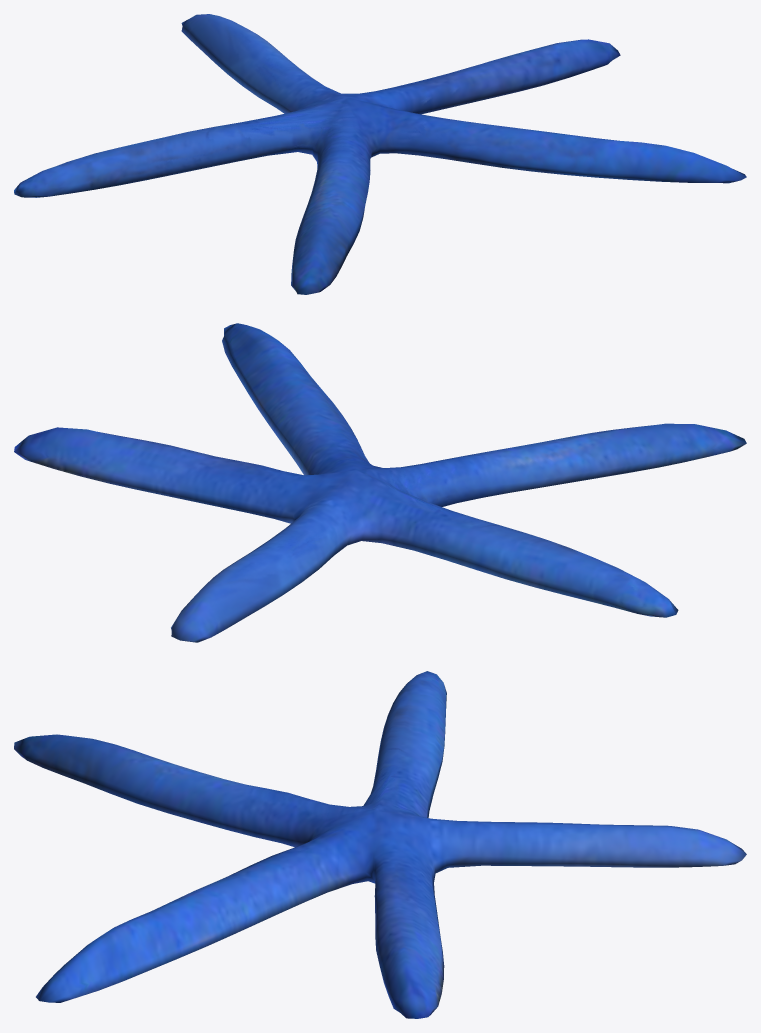
The model's file is BluieStarfish_seafish.glb.
The picture shows the model from 3 angles, top to bottom: view 1: azimuth 30°, elevation 25°; view 2: azimuth 150°, elevation 25°; view 3: azimuth 270°, elevation 25°; orthographic projection. The views are drawn at different scales.
Parts seen in each view (by area): view 1: Plane; view 2: Plane; view 3: Plane.
Part boxes in pixels (x1,y1,x2,y2): Plane: [14, 14, 746, 294]; Plane: [14, 323, 746, 642]; Plane: [14, 671, 746, 1018].
Size of the model in its own units: 0.8526 by 0.0548 by 0.7699.
1 material, 1 textured.
